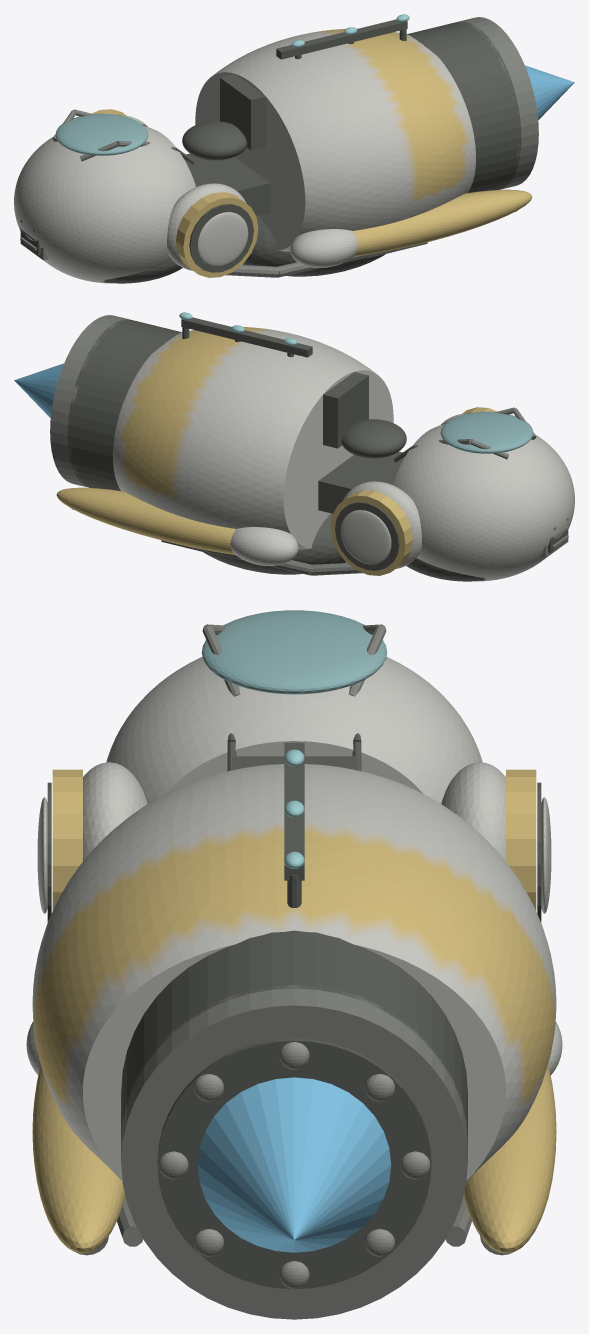
File: unibomba_white_flight.glb
3 renders of one model, top to bottom at view 1: azimuth 30°, elevation 25°; view 2: azimuth 150°, elevation 25°; view 3: azimuth 270°, elevation 25°, orthographic. The views are drawn at different scales.
Parts seen in each view (by area): view 1: hull_rear_0, nose_1, engine_rear_housing_17, side_skid_12, main_engine_rim_18, windscreen_6, cockpit_chassis_3, seat_back_5, nacelle_gold_rim_9, skid_nose_13, nacelle_hub_11, seat_4 (+8 smaller); view 2: hull_rear_0, nose_1, engine_rear_housing_17, side_skid_12, main_engine_rim_18, windscreen_6, cockpit_chassis_3, seat_back_5, nacelle_gold_rim_9, skid_nose_13, nacelle_hub_11, seat_4 (+8 smaller); view 3: hull_rear_0, main_engine_rim_18, nose_1, main_engine_flame_21, main_engine_dark_interior_19, engine_rear_housing_17, side_skid_12, windscreen_6, nose_side_nacelle_8, nacelle_gold_rim_9, engine_vane_20, nacelle_hub_11 (+7 smaller).
Part boxes in pixels (box(x1,y1,x2,y2)): hull_rear_0: box(195, 28, 475, 251); nose_1: box(14, 126, 195, 283); engine_rear_housing_17: box(407, 21, 521, 192); side_skid_12: box(353, 189, 532, 256); main_engine_rim_18: box(455, 17, 538, 189); windscreen_6: box(55, 113, 148, 155); cockpit_chassis_3: box(183, 153, 270, 215); seat_back_5: box(220, 74, 265, 150); nacelle_gold_rim_9: box(91, 109, 258, 277); skid_nose_13: box(290, 229, 358, 267); nacelle_hub_11: box(197, 212, 248, 266); seat_4: box(182, 121, 247, 160); hull_rear_0: box(113, 326, 393, 549); nose_1: box(393, 424, 574, 581); engine_rear_housing_17: box(67, 319, 181, 490); side_skid_12: box(56, 487, 235, 554); main_engine_rim_18: box(50, 315, 129, 487); windscreen_6: box(440, 411, 533, 453); cockpit_chassis_3: box(318, 451, 405, 513); seat_back_5: box(323, 372, 368, 448); nacelle_gold_rim_9: box(330, 407, 497, 575); skid_nose_13: box(230, 527, 298, 565); nacelle_hub_11: box(340, 510, 391, 564); seat_4: box(341, 419, 406, 458); hull_rear_0: box(32, 764, 556, 1181); main_engine_rim_18: box(121, 985, 467, 1319); nose_1: box(106, 656, 482, 803); main_engine_flame_21: box(197, 1077, 391, 1252); main_engine_dark_interior_19: box(157, 1038, 431, 1289); engine_rear_housing_17: box(121, 930, 467, 1143); side_skid_12: box(32, 1065, 556, 1253); windscreen_6: box(201, 610, 387, 694); nose_side_nacelle_8: box(83, 762, 505, 861); nacelle_gold_rim_9: box(52, 769, 536, 910); engine_vane_20: box(158, 1042, 430, 1288); nacelle_hub_11: box(37, 797, 551, 913).
Bounding box in the file's own units: 6.28 × 2.47 × 2.66.
